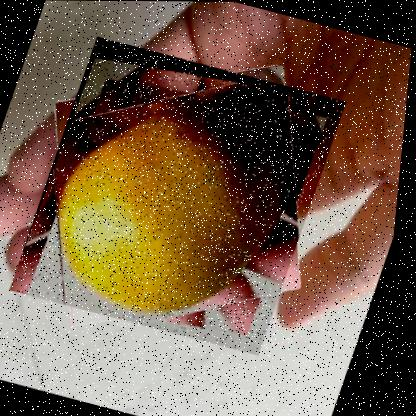orange: (9, 35, 353, 356)
